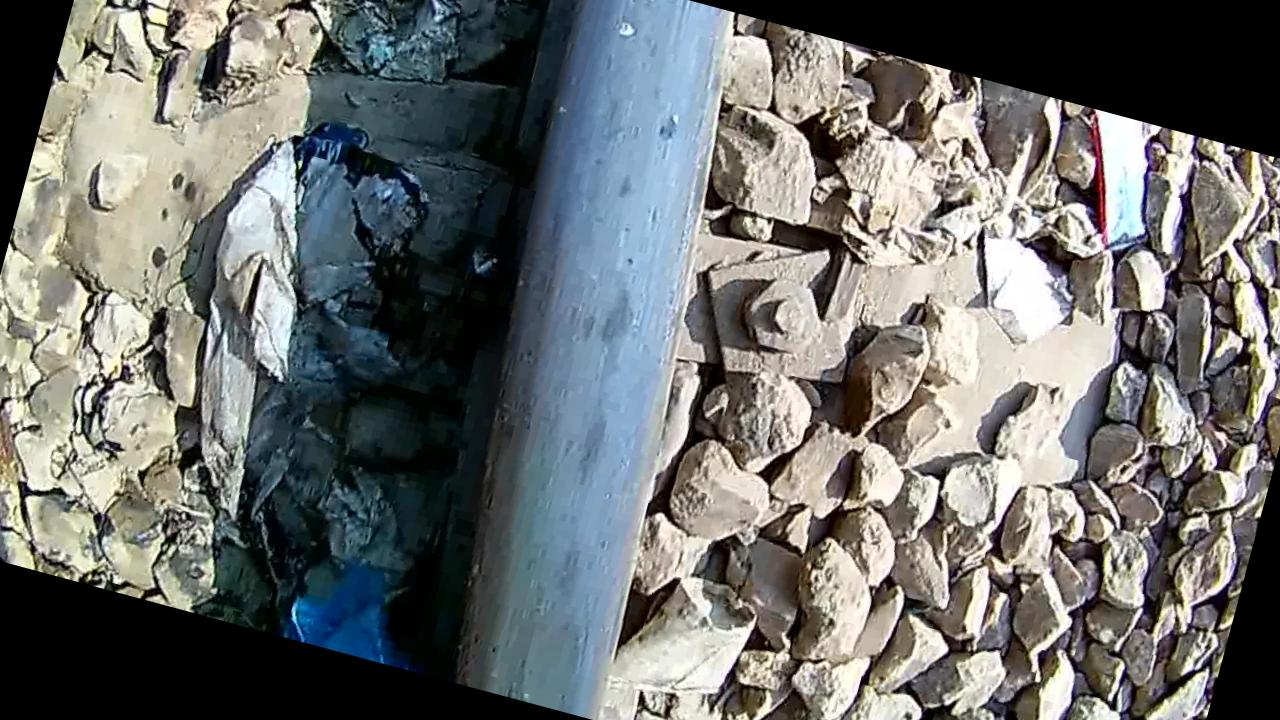bolt_missing: (407, 75, 769, 720)
